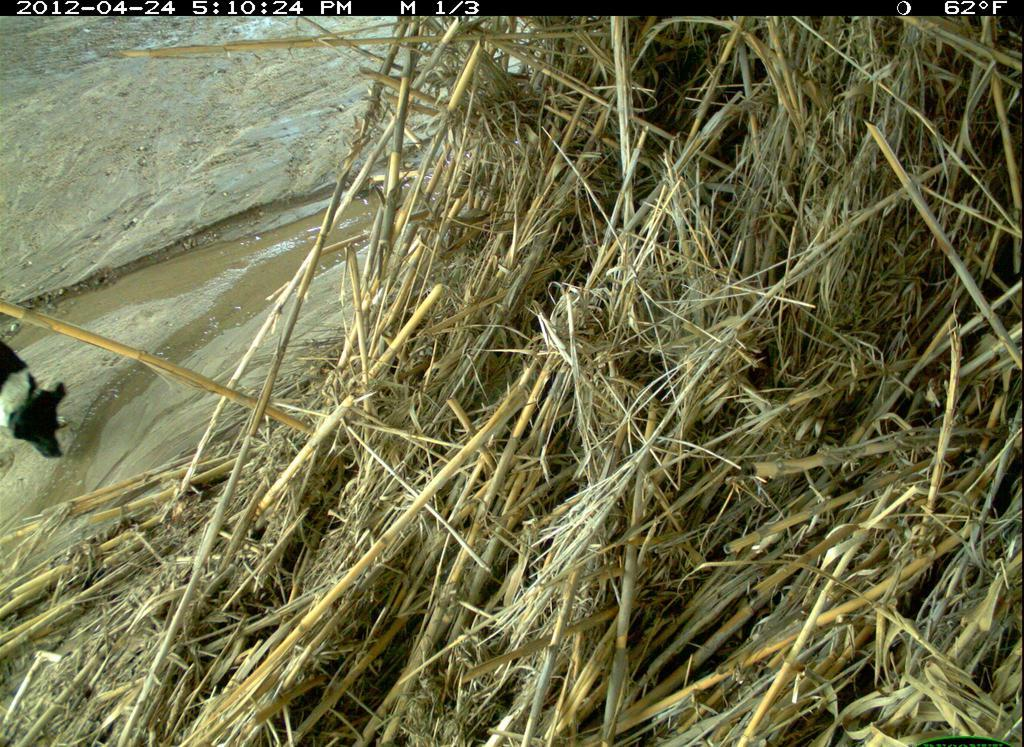dog: (1, 327, 84, 468)
